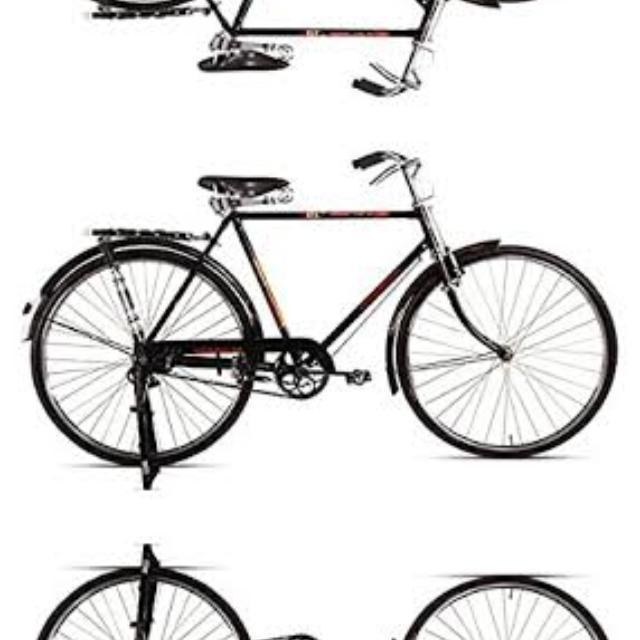obstacle: (21, 140, 626, 488), (21, 0, 626, 105), (21, 546, 626, 640)
